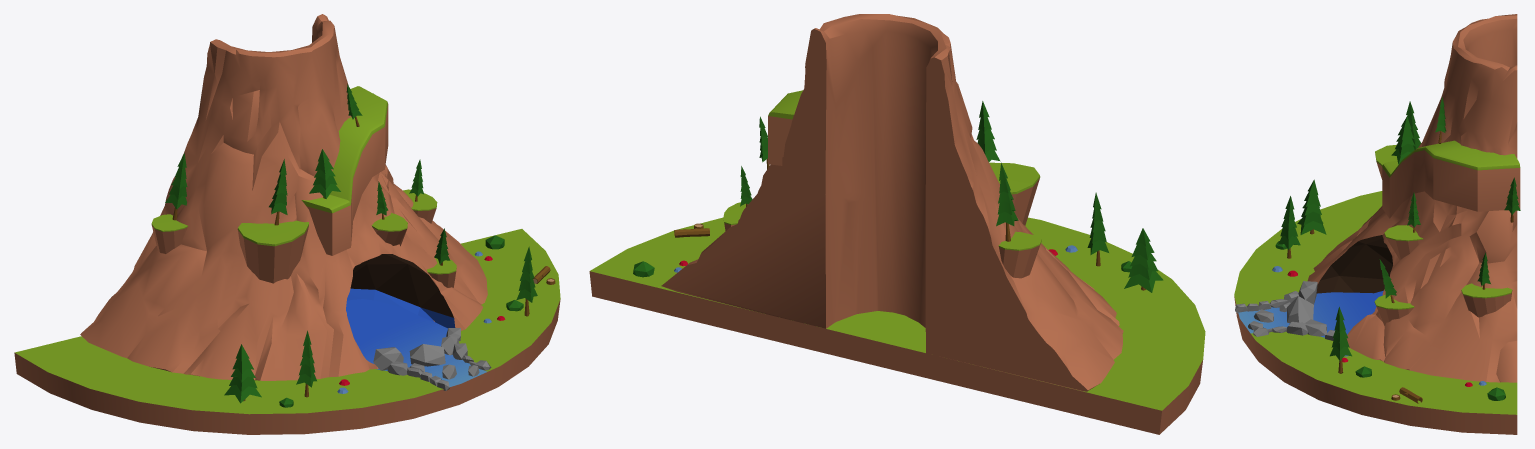
File: Other Part 001.fbx
3 renders of one model, left to right at view 1: azimuth 30°, elevation 25°; view 2: azimuth 150°, elevation 25°; view 3: azimuth 270°, elevation 25°, orthographic. The views are drawn at different scales.
Visible parts, largest first — view 1: Other Part.001; view 2: Other Part.001; view 3: Other Part.001.
Boxes of the visible parts, <box> form: Other Part.001: <box>14,14,560,434</box>; Other Part.001: <box>589,14,1205,434</box>; Other Part.001: <box>1234,14,1520,434</box>.
Size of the model in its own units: 101 by 54.67 by 51.01.
